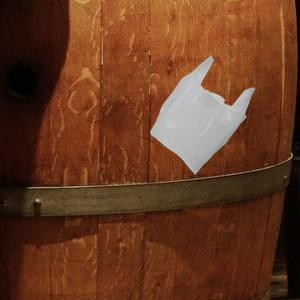plastic_bag: (151, 53, 259, 178)
